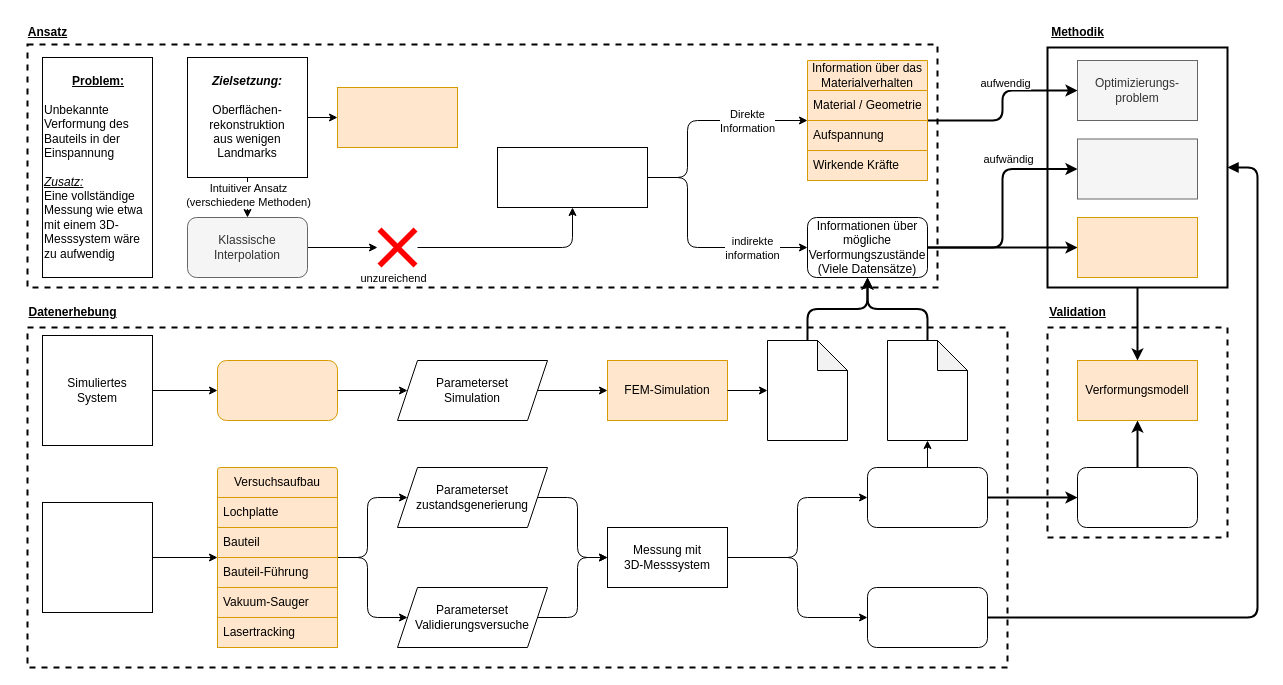
Image size: 1283x685. Some labels were removed from this diagram. Here are the shapes that lost their labels. From the top down, the centre of each, then its label:
At (x=397, y=117): "Identifikation der optimalen Anzahl und Position der Landmarks".
At (x=572, y=177): "Identifikation und Einbeziehung von zusätzliche Informationen des Bauteils".
At (x=1137, y=168): "Machine Learning".
At (x=1137, y=247): "Gappy-POD".
At (x=277, y=390): "Modellannahme der Einspannung".
At (x=807, y=390): "Simulierte Verformungs-zustände".
At (x=927, y=390): "Gemessene Verformungs-zustände".
At (x=927, y=497): "Punktwolken (Vollflächiger Scan)".
At (x=1137, y=497): "Ist-Zustand des Bauteils".
At (x=97, y=557): "Physisches System".
At (x=927, y=617): "Landmarks (Einzelne 3D-Koordinaten)".
